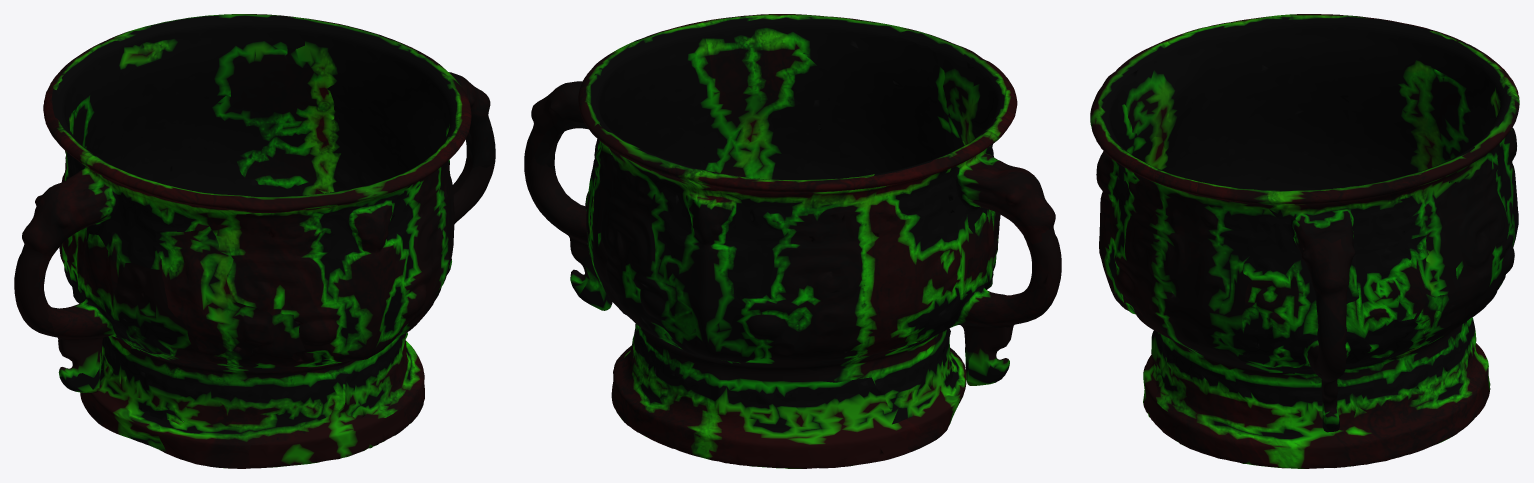
The picture shows the model from 3 angles, left to right: view 1: azimuth 30°, elevation 25°; view 2: azimuth 150°, elevation 25°; view 3: azimuth 270°, elevation 25°; orthographic projection. The views are drawn at different scales.
Visible parts, largest first — view 1: gui_zhou_2; view 2: gui_zhou_2; view 3: gui_zhou_2.
Part boxes in pixels (x1,y1,x2,y2): gui_zhou_2: (14, 14, 495, 468); gui_zhou_2: (524, 14, 1061, 468); gui_zhou_2: (1090, 14, 1519, 468).
Size of the model in its own units: 0.3113 by 0.1798 by 0.2314.
1 material, 1 textured.
